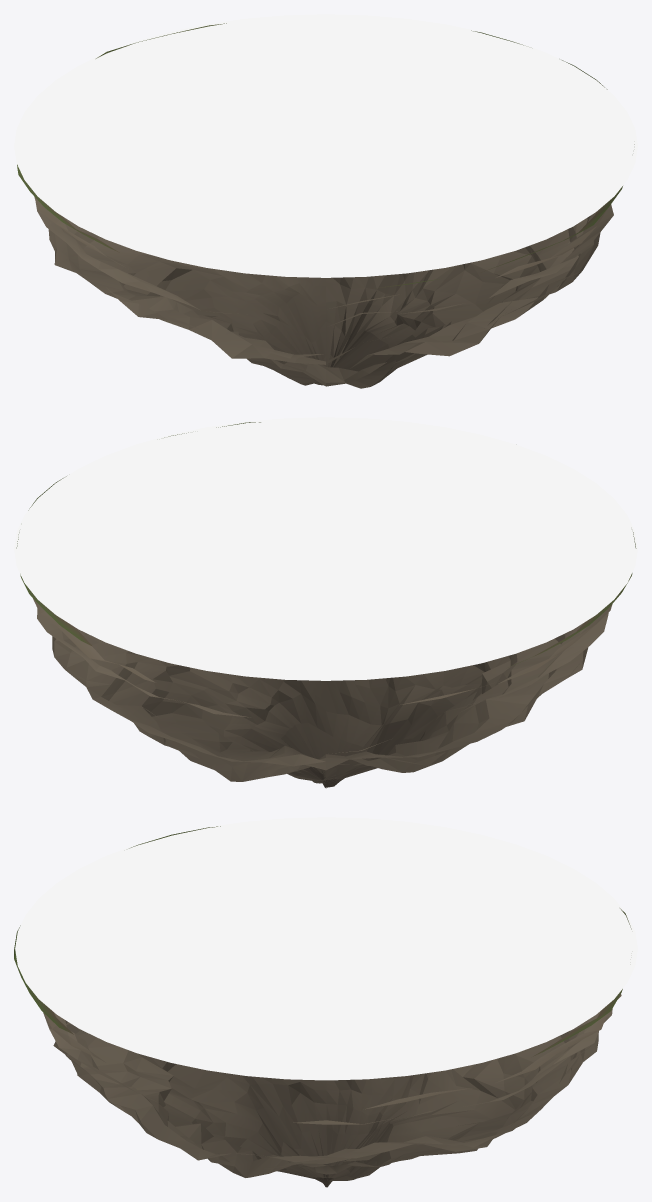
Rendered from Island Basic.glb.
The picture shows the model from 3 angles, top to bottom: view 1: azimuth 30°, elevation 25°; view 2: azimuth 150°, elevation 25°; view 3: azimuth 270°, elevation 25°; orthographic projection.
Parts seen in each view (by area): view 1: Mesh_1, Mesh_0; view 2: Mesh_1, Mesh_0; view 3: Mesh_1, Mesh_0.
Part boxes in pixels (<box>): Mesh_1: <box>14,14,637,277</box>; Mesh_0: <box>17,23,634,388</box>; Mesh_1: <box>14,417,637,680</box>; Mesh_0: <box>16,422,636,788</box>; Mesh_1: <box>15,817,637,1080</box>; Mesh_0: <box>14,826,631,1187</box>.
Size of the model in its own units: 14.93 by 6.34 by 14.92.
